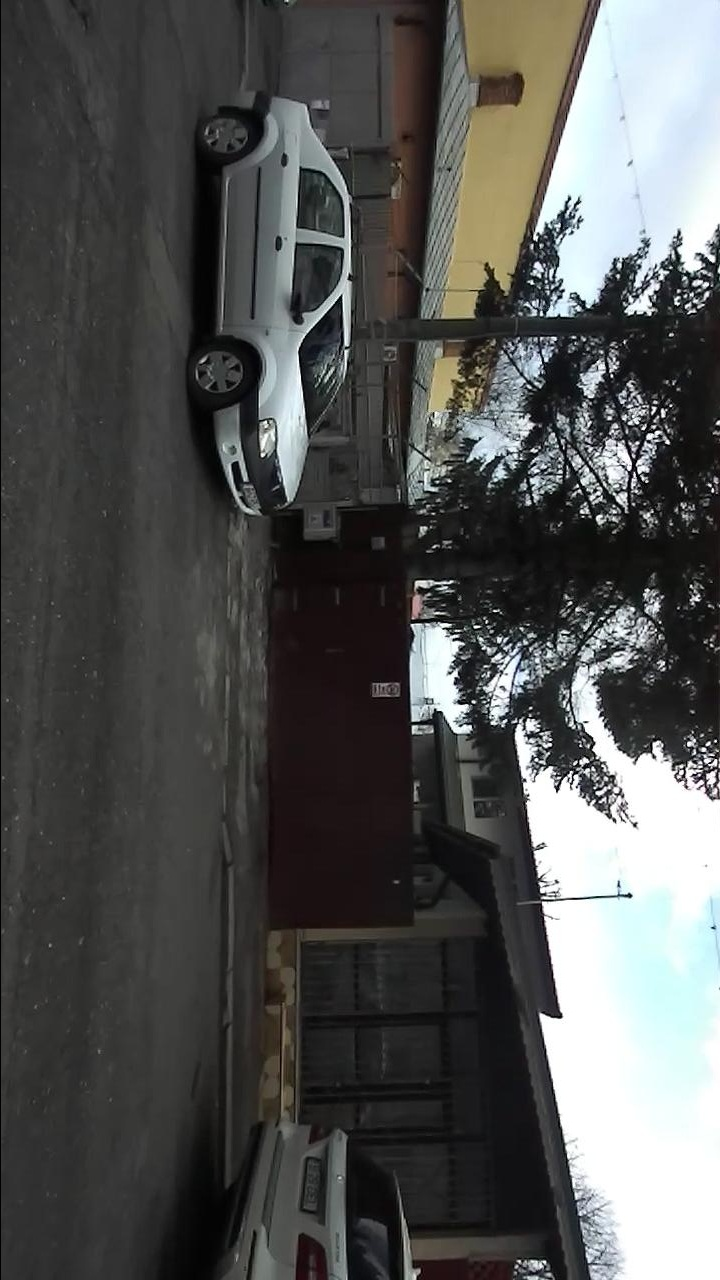pothole: (61, 0, 96, 33)
